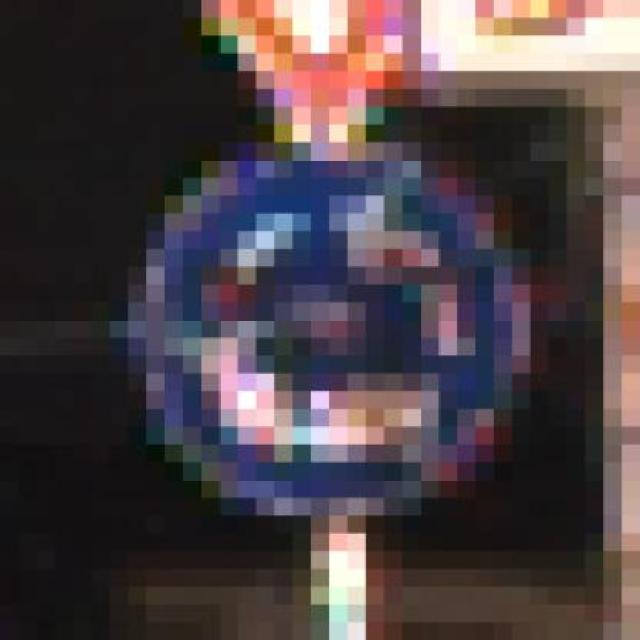Round-About: (92, 124, 586, 551)
